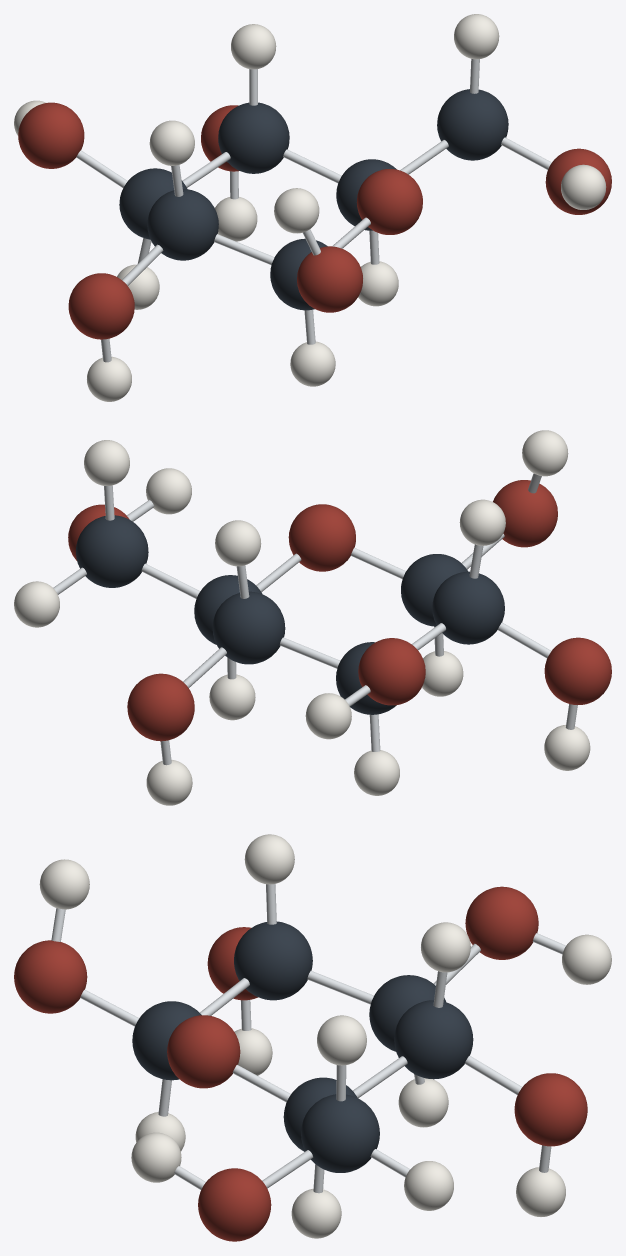
The model's file is glucose.glb.
3 renders of one model, top to bottom at view 1: azimuth 30°, elevation 25°; view 2: azimuth 150°, elevation 25°; view 3: azimuth 270°, elevation 25°, orthographic. The views are drawn at different scales.
Parts seen in each view (by area): view 1: Glucose, Glucose_C6, Glucose_C1, Glucose_C4, Glucose_O4, Glucose_O3, Glucose_O5, Glucose_O1, Glucose_C2, Glucose_O6, Glucose_C5, Glucose_H11 (+11 smaller); view 2: Glucose, Glucose_C6, Glucose_C1, Glucose_C4, Glucose_O2, Glucose_O4, Glucose_O3, Glucose_O1, Glucose_O5, Glucose_C5, Glucose_H1, Glucose_H7 (+13 smaller); view 3: Glucose, Glucose_C4, Glucose_C1, Glucose_C6, Glucose_O2, Glucose_O6, Glucose_O1, Glucose_O5, Glucose_O3, Glucose_C5, Glucose_C2, Glucose_H6 (+13 smaller).
Part boxes in pixels (bbox=[...]): Glucose: bbox=[76, 59, 551, 362]; Glucose_C6: bbox=[437, 89, 508, 160]; Glucose_C1: bbox=[218, 102, 289, 173]; Glucose_C4: bbox=[147, 189, 218, 260]; Glucose_O4: bbox=[68, 273, 134, 339]; Glucose_O3: bbox=[18, 102, 84, 168]; Glucose_O5: bbox=[297, 246, 362, 312]; Glucose_O1: bbox=[356, 169, 422, 234]; Glucose_C2: bbox=[119, 168, 187, 239]; Glucose_O6: bbox=[545, 148, 611, 214]; Glucose_C5: bbox=[270, 238, 327, 310]; Glucose_H11: bbox=[274, 188, 319, 233]; Glucose: bbox=[53, 473, 577, 765]; Glucose_C6: bbox=[76, 515, 148, 587]; Glucose_C1: bbox=[212, 591, 285, 664]; Glucose_C4: bbox=[432, 571, 504, 644]; Glucose_O2: bbox=[127, 673, 194, 741]; Glucose_O4: bbox=[544, 637, 611, 704]; Glucose_O3: bbox=[358, 638, 425, 705]; Glucose_O1: bbox=[288, 504, 355, 571]; Glucose_O5: bbox=[493, 480, 557, 547]; Glucose_C5: bbox=[401, 554, 467, 626]; Glucose_H1: bbox=[215, 520, 261, 566]; Glucose_H7: bbox=[14, 581, 59, 627]; Glucose: bbox=[51, 884, 565, 1193]; Glucose_C4: bbox=[234, 921, 312, 1000]; Glucose_C1: bbox=[394, 1000, 473, 1079]; Glucose_C6: bbox=[301, 1094, 379, 1172]; Glucose_O2: bbox=[514, 1073, 587, 1146]; Glucose_O6: bbox=[198, 1168, 271, 1241]; Glucose_O1: bbox=[167, 1015, 240, 1088]; Glucose_O5: bbox=[14, 940, 87, 1013]; Glucose_O3: bbox=[465, 886, 538, 959]; Glucose_C5: bbox=[132, 1001, 201, 1080]; Glucose_C2: bbox=[369, 975, 445, 1051]; Glucose_H6: bbox=[317, 1015, 366, 1065].
Bounding box in the file's own units: 0.2138 × 0.0973 × 0.1891.
